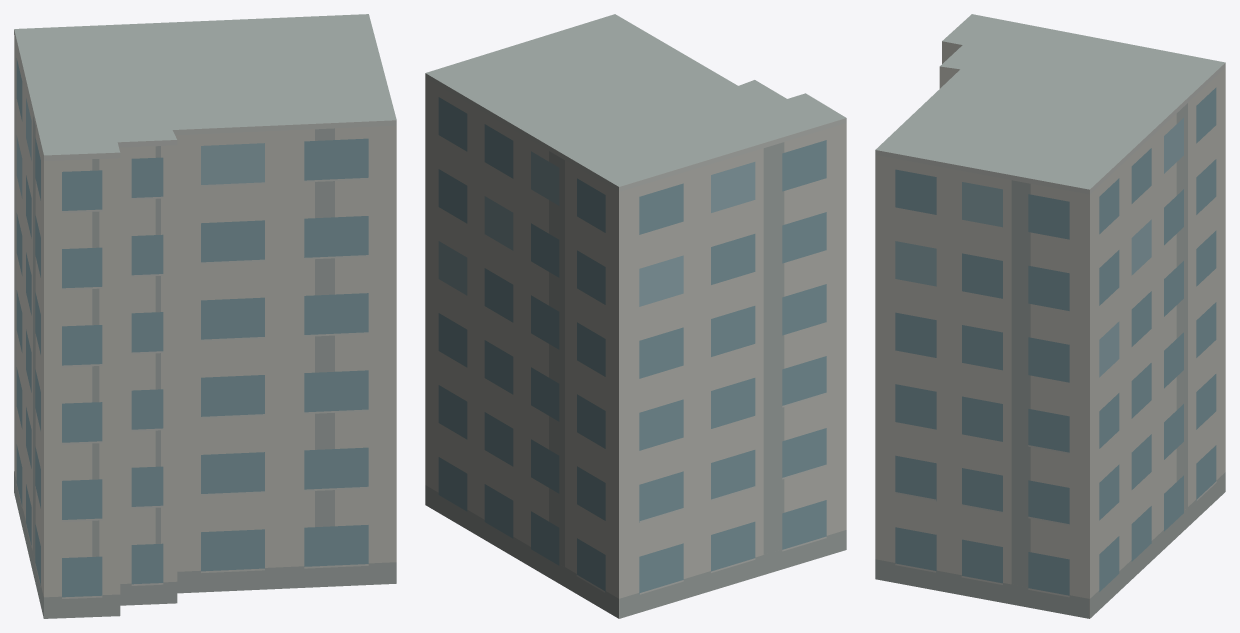
File: survey-upis-32825221.glb
3 views of the same model, side by side, from view 1: azimuth 30°, elevation 25°; view 2: azimuth 150°, elevation 25°; view 3: azimuth 270°, elevation 25° (orthographic). The views are drawn at different scales.
Parts seen in each view (by area): view 1: survey-upis-32825221.tmp; view 2: survey-upis-32825221.tmp; view 3: survey-upis-32825221.tmp.
Part boxes in pixels (x1,y1,x2,y2): survey-upis-32825221.tmp: (14,14,396,618); survey-upis-32825221.tmp: (425,14,846,618); survey-upis-32825221.tmp: (875,14,1225,618).
Size of the model in its own units: 18.08 by 20.6 by 15.25.
